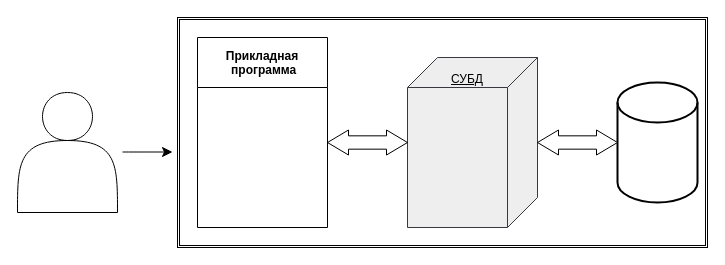
Image size: 725x265. Some labels were removed from this diagram. The shapes that lost their labels are listed below. From the top down, each one's centre as x and y in pixels, then its label:
pixel 67 152: ПК
pixel 657 142: БД
